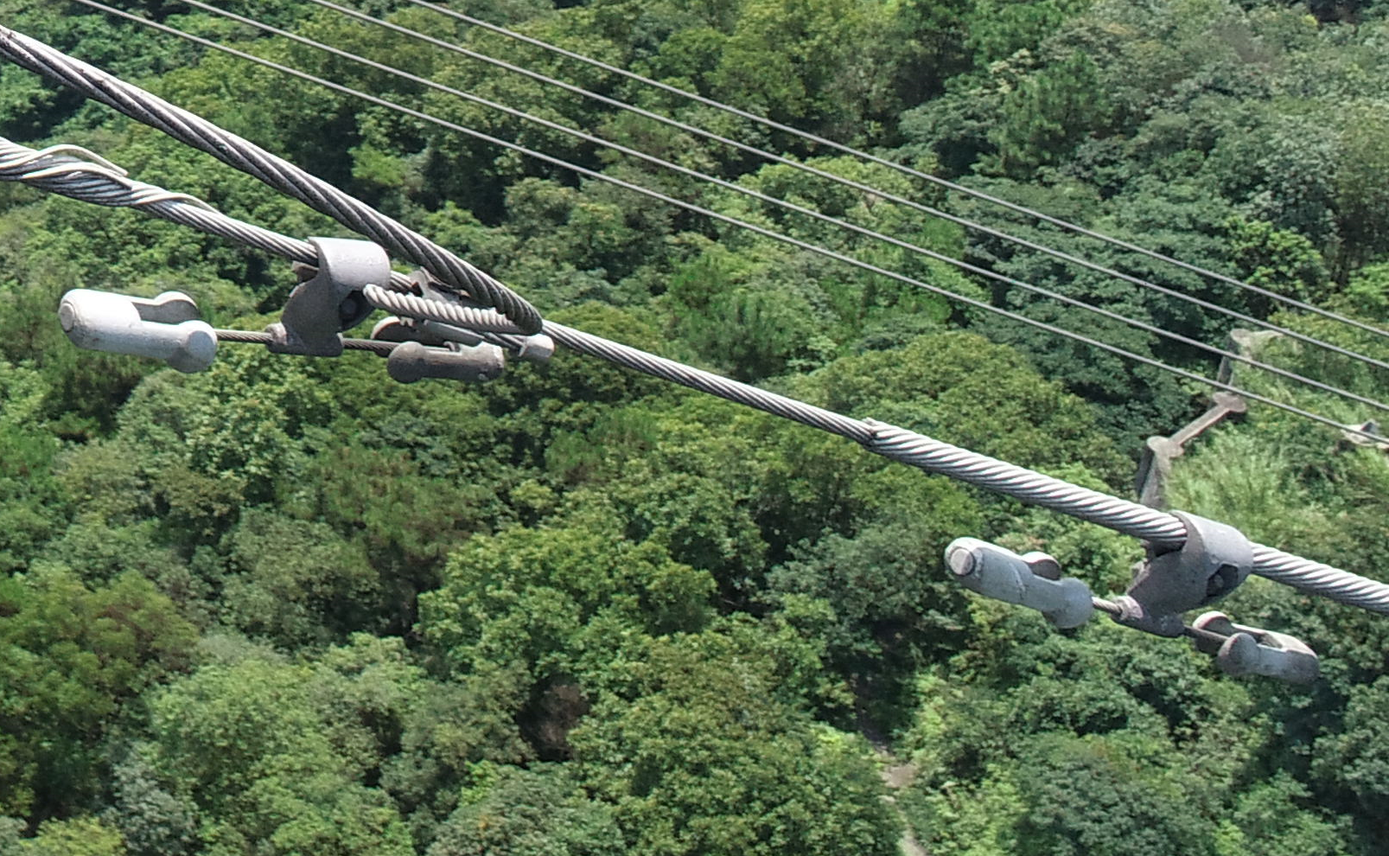damper: (56, 229, 507, 386), (938, 507, 1324, 688)
